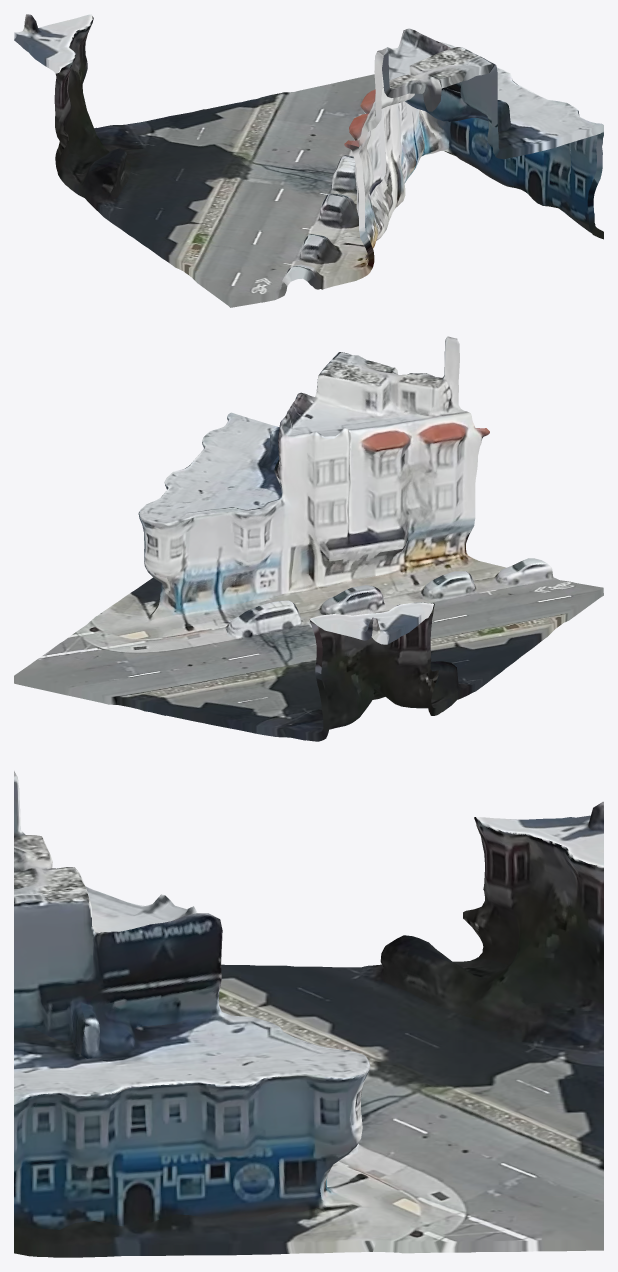
File: z20-167736-405197-h0-yup-uvflip-v3-world.glb
3 renders of one model, top to bottom at view 1: azimuth 30°, elevation 25°; view 2: azimuth 150°, elevation 25°; view 3: azimuth 270°, elevation 25°, orthographic. The views are drawn at different scales.
Bounding box in the file's own units: 30.2 × 19.08 × 30.32.
Materials: 1 (1 with a texture image).
